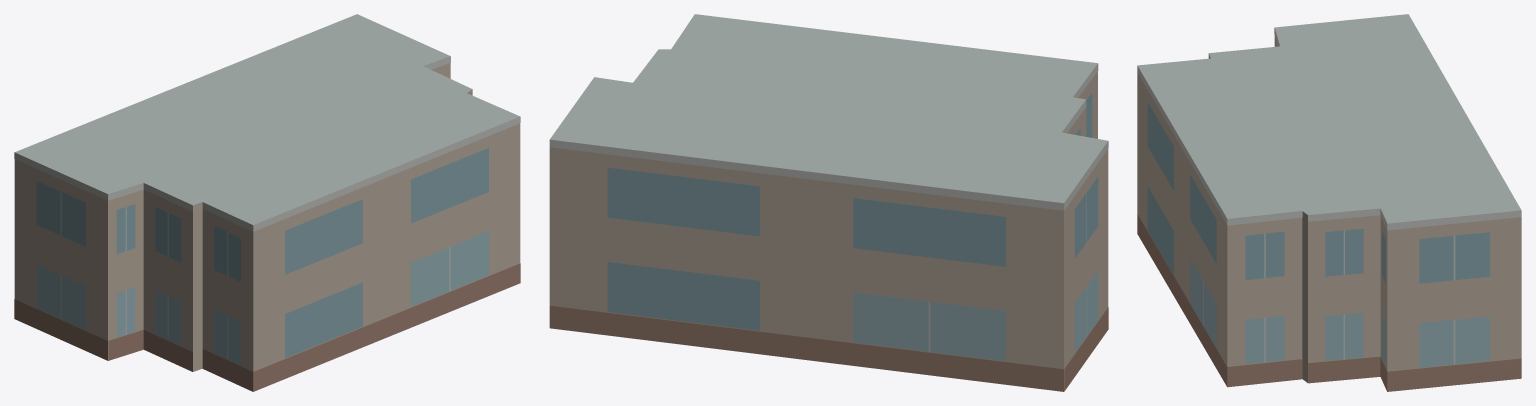
The model's file is survey-upis-32784154.glb.
3 views of the same model, side by side, from view 1: azimuth 30°, elevation 25°; view 2: azimuth 150°, elevation 25°; view 3: azimuth 270°, elevation 25° (orthographic). The views are drawn at different scales.
Parts seen in each view (by area): view 1: survey-upis-32784154.tmp; view 2: survey-upis-32784154.tmp; view 3: survey-upis-32784154.tmp.
Part boxes in pixels (<box>): survey-upis-32784154.tmp: <box>14,14,520,391</box>; survey-upis-32784154.tmp: <box>549,14,1108,391</box>; survey-upis-32784154.tmp: <box>1137,14,1521,391</box>.
Bounding box in the file's own units: 16.31 × 6.1 × 12.64.
